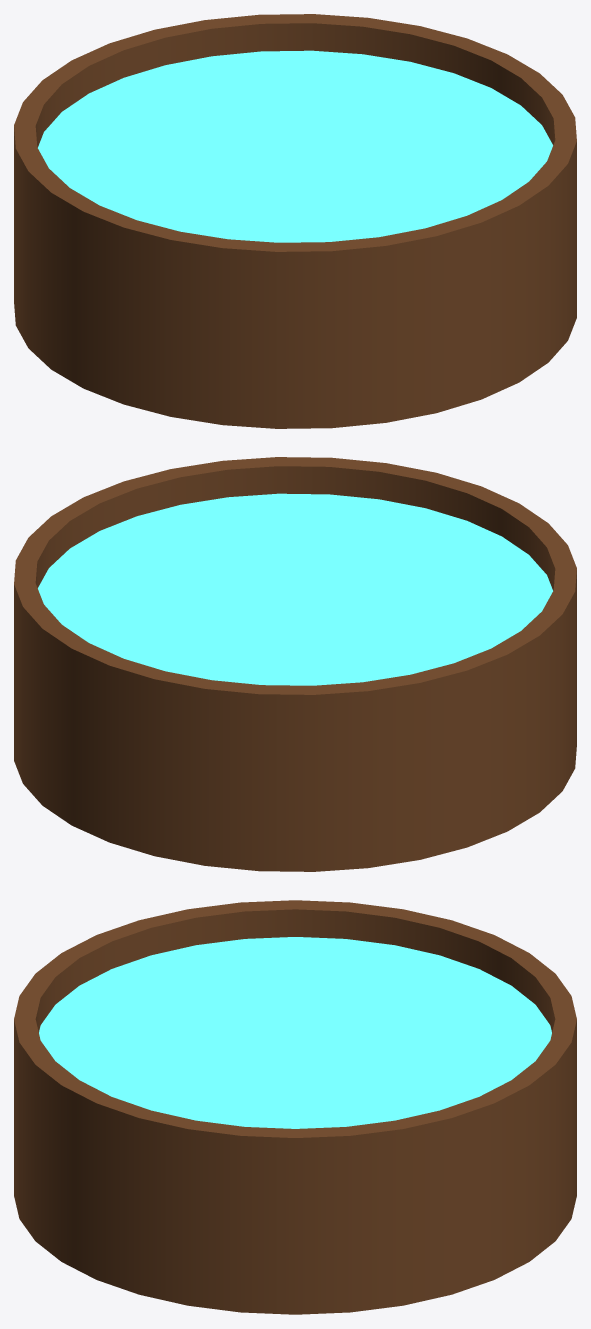
The model's file is hot_tub.glb.
The picture shows the model from 3 angles, top to bottom: view 1: azimuth 30°, elevation 25°; view 2: azimuth 150°, elevation 25°; view 3: azimuth 270°, elevation 25°; orthographic projection.
Visible parts, largest first — view 1: tub, water; view 2: tub, water; view 3: tub, water.
Boxes of the visible parts, box(x1,y1,x2,y2) form: tub: box(14, 14, 576, 428); water: box(38, 50, 552, 242); tub: box(14, 457, 576, 871); water: box(38, 493, 552, 685); tub: box(14, 900, 576, 1314); water: box(39, 937, 551, 1128).
Bounding box in the file's own units: 2.6 × 0.9 × 2.6.
